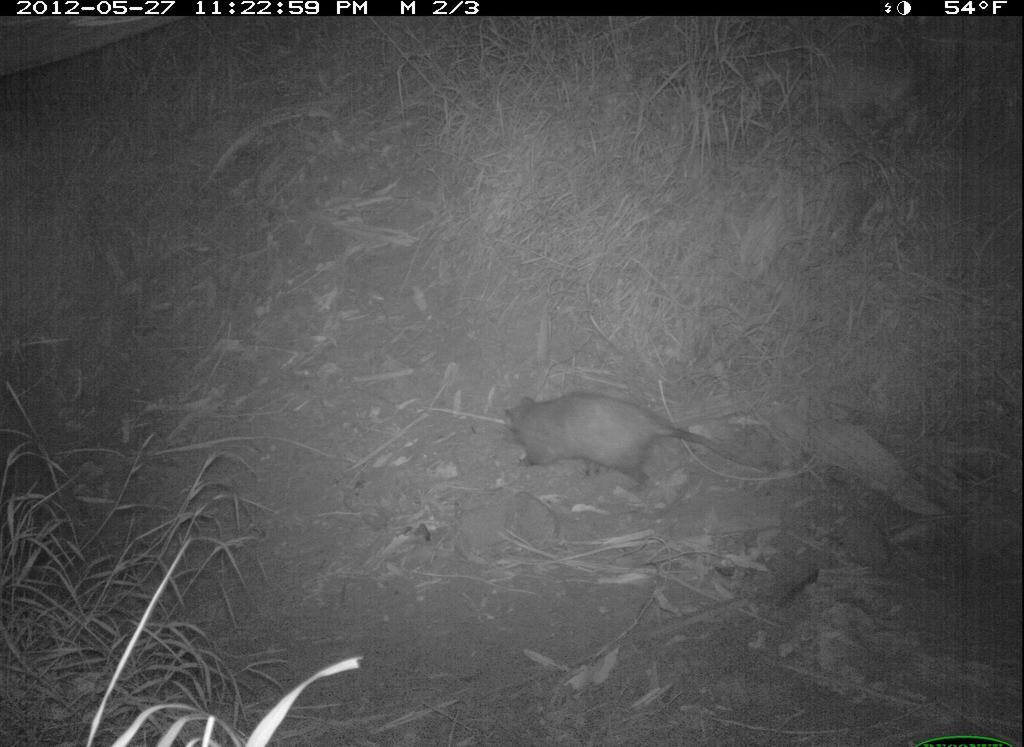opossum: (489, 390, 811, 536)
